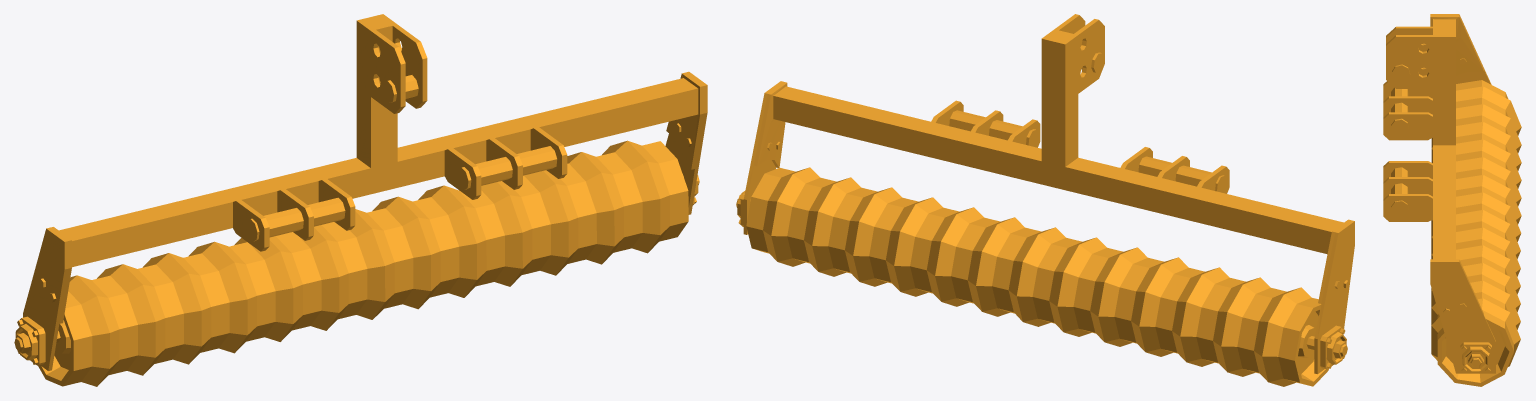
File: SM_Cultipacker.fbx
3 renders of one model, left to right at view 1: azimuth 30°, elevation 25°; view 2: azimuth 150°, elevation 25°; view 3: azimuth 270°, elevation 25°, orthographic. The views are drawn at different scales.
Parts seen in each view (by area): view 1: cultipacker-wheels, cultipacker-frame; view 2: cultipacker-wheels, cultipacker-frame; view 3: cultipacker-frame, cultipacker-wheels.
Part boxes in pixels (x1,y1,x2,y2): cultipacker-wheels: (38, 140, 688, 386); cultipacker-frame: (14, 14, 707, 370); cultipacker-wheels: (746, 167, 1328, 386); cultipacker-frame: (736, 14, 1354, 374); cultipacker-frame: (1383, 14, 1495, 373); cultipacker-wheels: (1431, 80, 1521, 386).
Bounding box in the file's own units: 2.75 × 1.19 × 0.6138.
